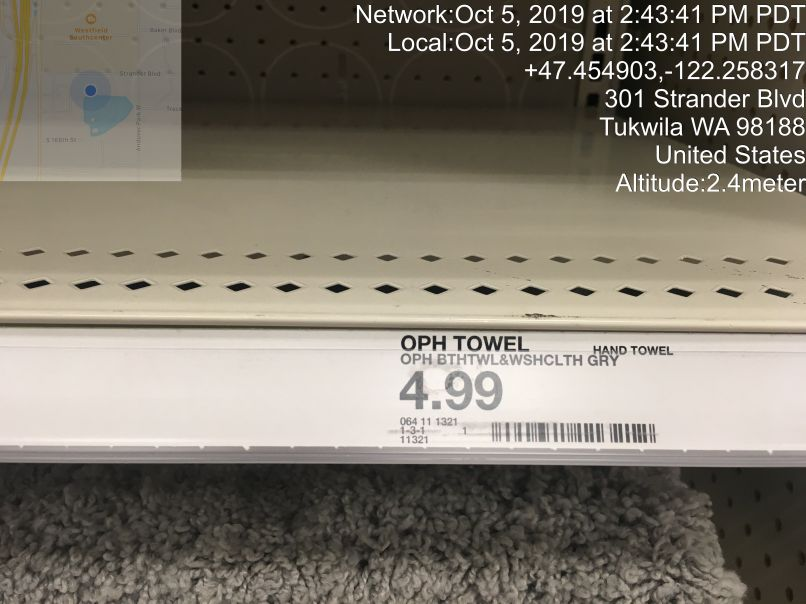Label: (374, 323, 696, 472)
Location: (596, 83, 806, 169)
Time: (346, 1, 806, 56)
Void: (16, 30, 779, 285)
